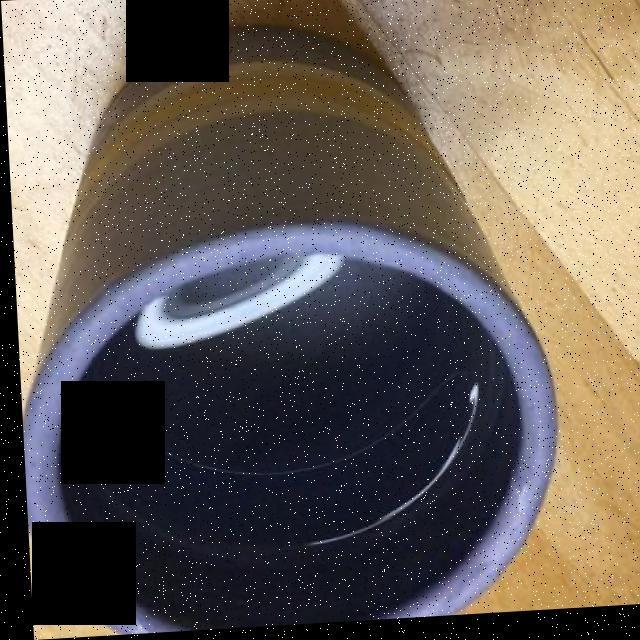water: (49, 138, 526, 591)
